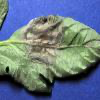Tomato leaf late blight: (1, 16, 99, 98)
